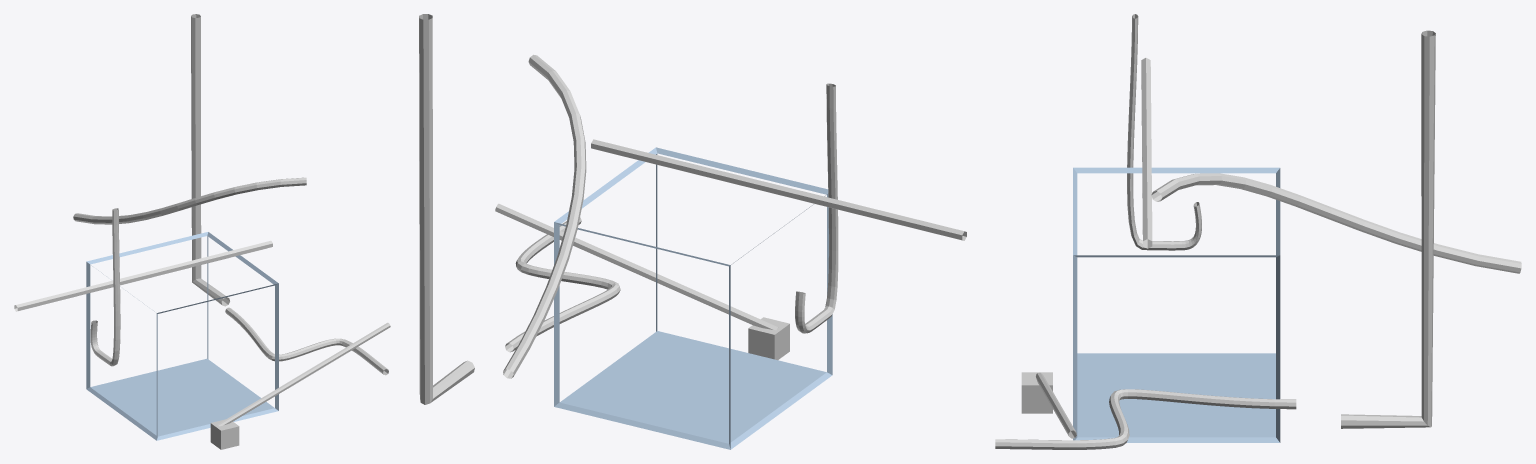
3 renders of one model, left to right at view 1: azimuth 30°, elevation 25°; view 2: azimuth 150°, elevation 25°; view 3: azimuth 270°, elevation 25°, orthographic. The views are drawn at different scales.
Visible parts, largest first — view 1: Cube, Cube.027, BezierCurve, Cube.003, BezierCurve.001, BezierCurve.002, Cube.012, Cube.026; view 2: Cube, Cube.027, BezierCurve, Cube.003, BezierCurve.001, Cube.012, BezierCurve.002, Cube.026; view 3: Cube, Cube.027, BezierCurve, BezierCurve.002, BezierCurve.001, Cube.003, Cube.026, Cube.012.
Part boxes in pixels (left/top/right/bottom): Cube: left=86, top=232, right=278, bottom=440; Cube.027: left=191, top=14, right=229, bottom=306; BezierCurve: left=73, top=177, right=306, bottom=224; Cube.003: left=14, top=240, right=272, bottom=311; BezierCurve.001: left=90, top=208, right=120, bottom=366; BezierCurve.002: left=225, top=307, right=388, bottom=375; Cube.012: left=217, top=322, right=390, bottom=426; Cube.026: left=210, top=419, right=239, bottom=449; Cube: left=554, top=147, right=832, bottom=449; Cube.027: left=419, top=14, right=474, bottom=404; BezierCurve: left=503, top=54, right=586, bottom=378; Cube.003: left=591, top=139, right=966, bottom=240; BezierCurve.001: left=795, top=83, right=838, bottom=333; Cube.012: left=495, top=203, right=778, bottom=329; BezierCurve.002: left=505, top=217, right=620, bottom=352; Cube.026: left=748, top=317, right=789, bottom=360; Cube: left=1073, top=167, right=1280, bottom=442; Cube.027: left=1341, top=30, right=1435, bottom=428; BezierCurve: left=1151, top=173, right=1521, bottom=273; BezierCurve.002: left=995, top=389, right=1296, bottom=449; BezierCurve.001: left=1127, top=14, right=1201, bottom=250; Cube.003: left=1141, top=58, right=1152, bottom=248; Cube.026: left=1021, top=372, right=1052, bottom=413; Cube.012: left=1036, top=372, right=1076, bottom=438.
Size of the model in its own units: 16004 by 13374 by 14245.
